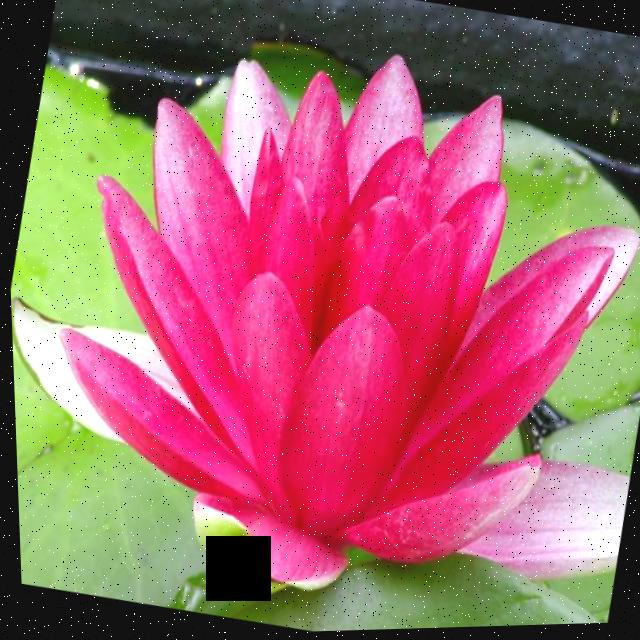water-lily: (4, 0, 640, 640)
